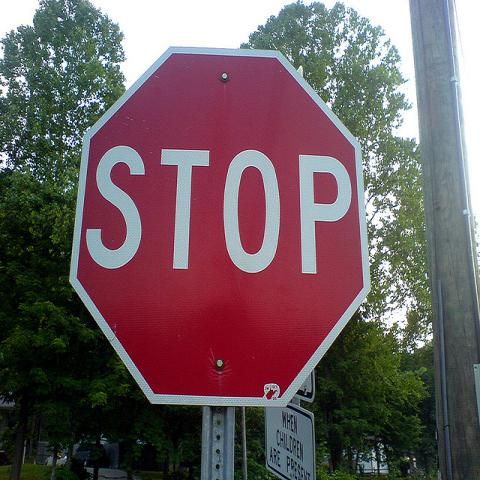car: (74, 442, 106, 468)
